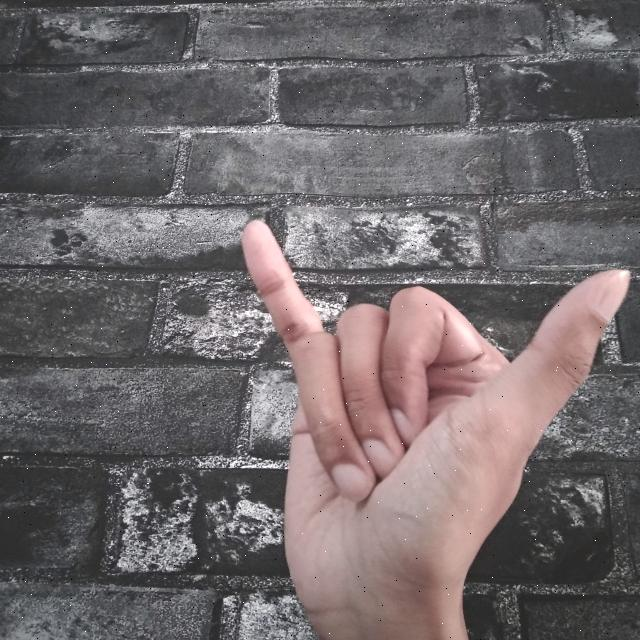Y: (232, 212, 628, 639)
